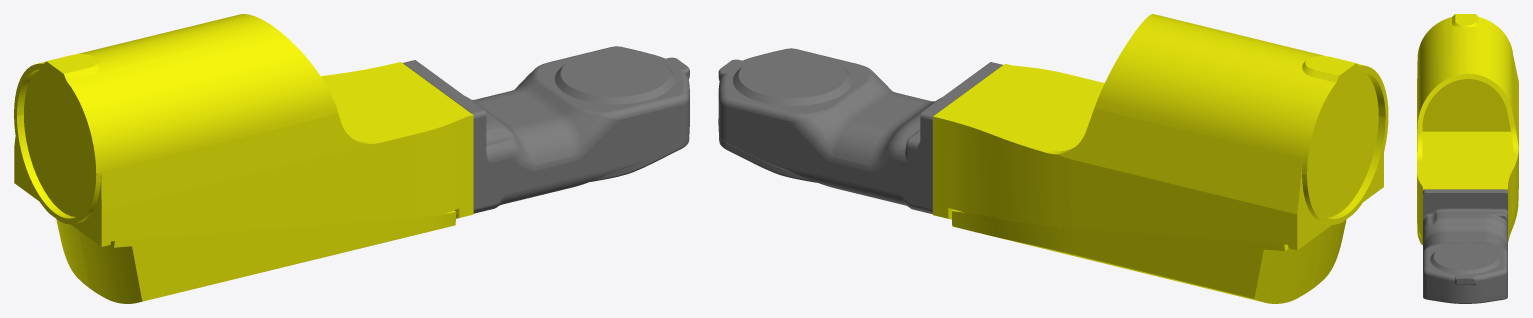
3 views of the same model, side by side, from view 1: azimuth 30°, elevation 25°; view 2: azimuth 150°, elevation 25°; view 3: azimuth 270°, elevation 25° (orthographic). The views are drawn at different scales.
Visible parts, largest first — view 1: Mesh_0; view 2: Mesh_0; view 3: Mesh_0.
Boxes of the visible parts, box(x1,y1,x2,y2) form: Mesh_0: box(14, 14, 689, 303); Mesh_0: box(718, 14, 1388, 303); Mesh_0: box(1417, 14, 1518, 303).
Size of the model in its own units: 0.4978 by 0.1741 by 0.12.
